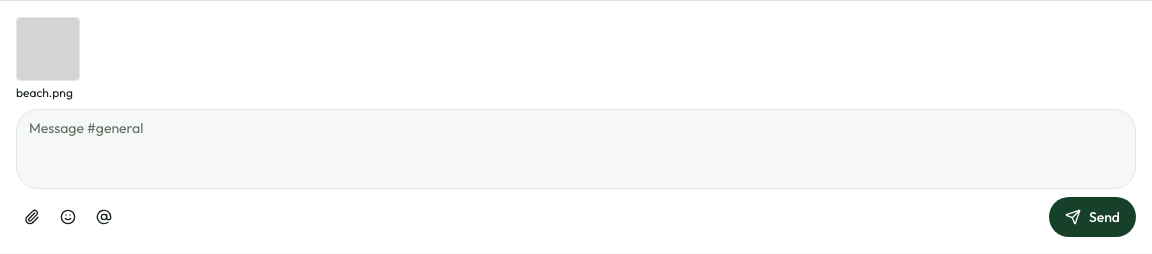
Scenario: sending files › sends the chosen file itself, with or without text
The width and height of the screenshot is (1152, 254).
Earlier steps of the test are not shown.
Step 1. Click the button "Send" → x=1092, y=217, box [1049,197,1136,237]
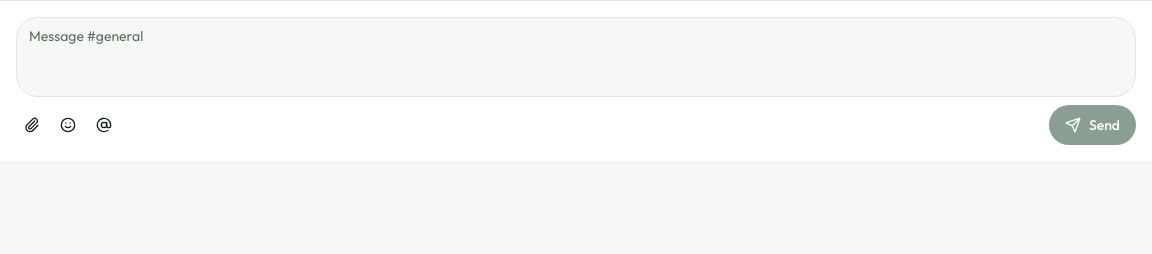
Result: the text with alt text "beach.png" is gone
